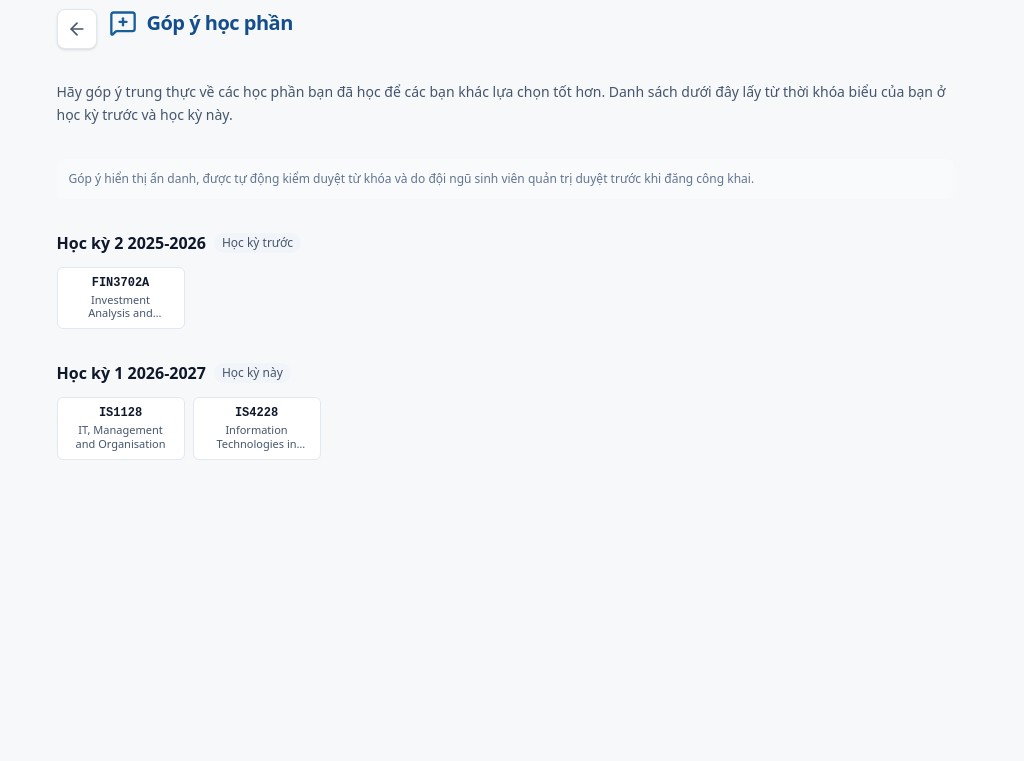
CourseReviewsPage › bấm vào môn: hiện đúng UI đánh giá môn học (như tab chi tiết học phần)
The width and height of the screenshot is (1024, 761).
Click the button with aria-label "Góp ý" at (256, 428), box 192,397 -> 320,460
(page scrolled)
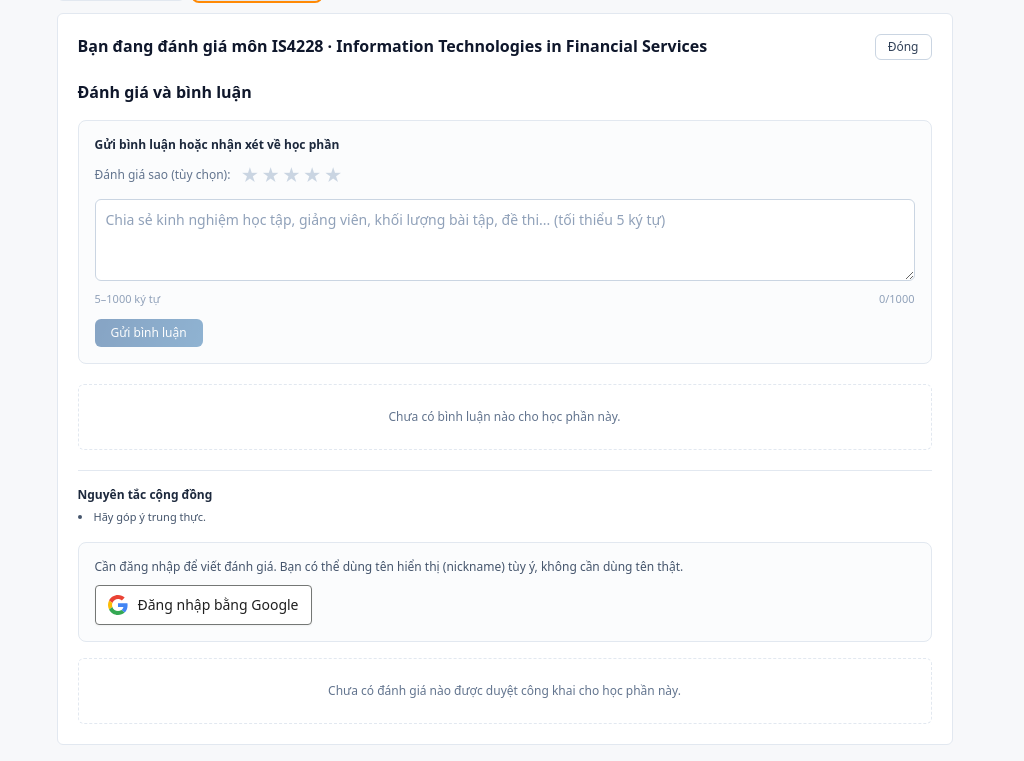
Expected: the heading "Bạn đang đánh giá môn IS4228 · Information Technologies in Financial Services" is shown, 78,34 -> 707,58
Expected: the text box named "Nội dung bình luận" is shown, 94,198 -> 914,280
Expected: the heading "Nguyên tắc cộng đồng" is shown, 78,486 -> 212,503
